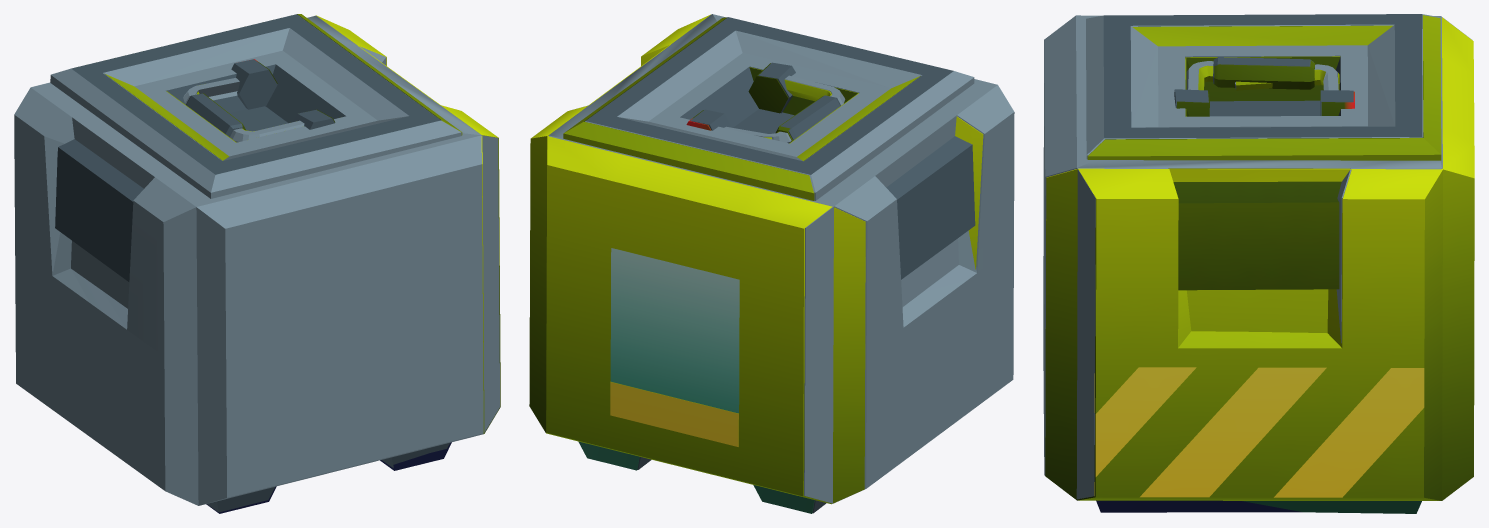
File: sci-fi_chest.fbx
The picture shows the model from 3 angles, left to right: view 1: azimuth 30°, elevation 25°; view 2: azimuth 150°, elevation 25°; view 3: azimuth 270°, elevation 25°; orthographic projection. The views are drawn at different scales.
Visible parts, largest first — view 1: Scifi Crate.001, Scifi Crate, Scifi Crate.002; view 2: Scifi Crate, Scifi Crate.001; view 3: Scifi Crate, Scifi Crate.001, Scifi Crate.002.
Part boxes in pixels (x1,y1,x2,y2): Scifi Crate.001: [14, 14, 499, 512]; Scifi Crate: [104, 14, 500, 433]; Scifi Crate.002: [206, 442, 451, 513]; Scifi Crate: [529, 14, 983, 513]; Scifi Crate.001: [548, 14, 1014, 513]; Scifi Crate: [1045, 15, 1474, 513]; Scifi Crate.001: [1043, 14, 1471, 499]; Scifi Crate.002: [1096, 500, 1302, 512].
Bounding box in the file's own units: 42.15 × 40.72 × 42.02.
